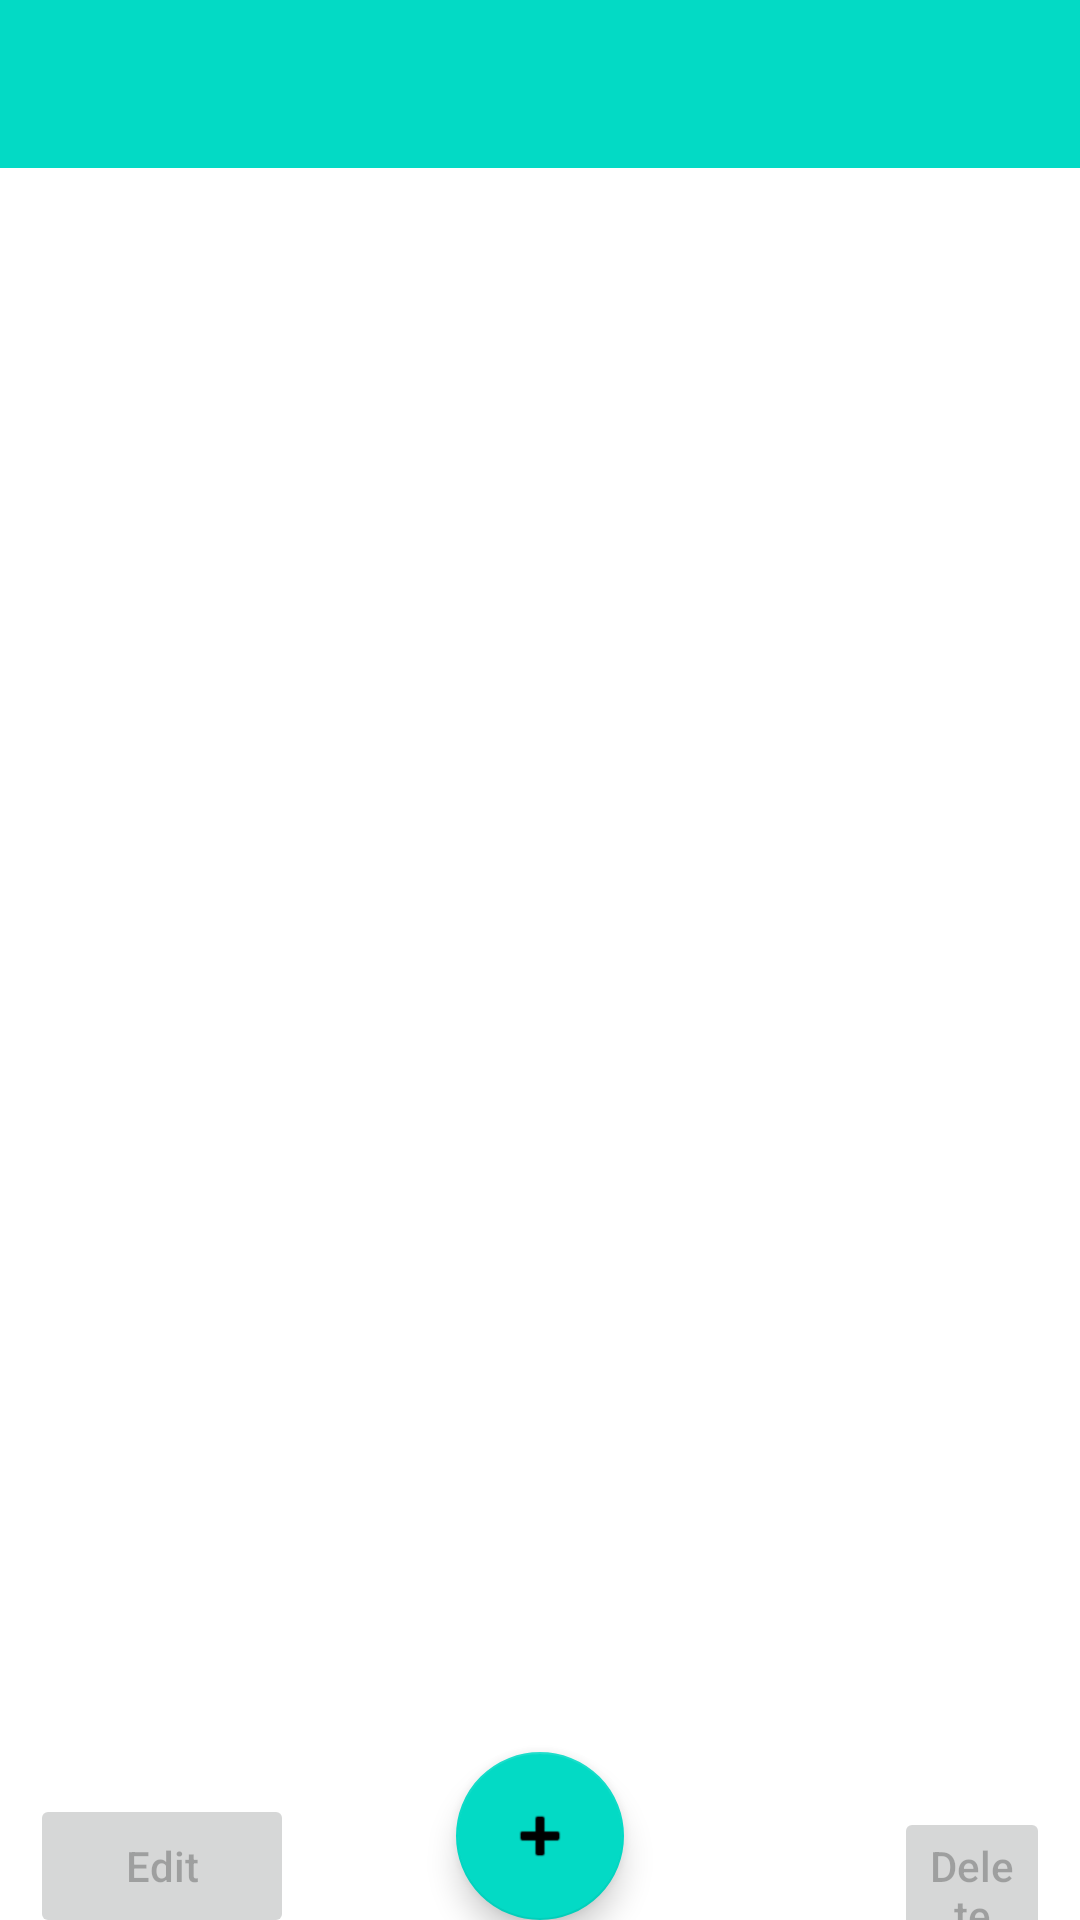

Screen size 1080 × 1920. Icon name, then its center in pixels as point (x, y):
add: point (540, 1836)
